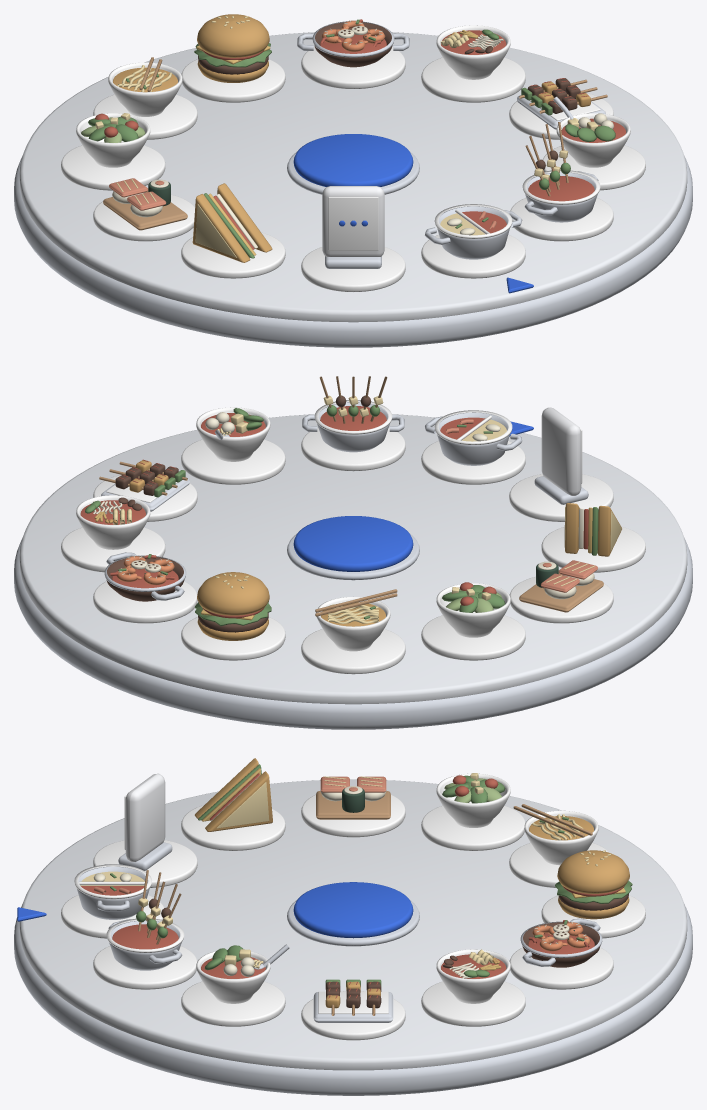
File: decision-scene.glb
3 views of the same model, one above another, from view 1: azimuth 30°, elevation 25°; view 2: azimuth 150°, elevation 25°; view 3: azimuth 270°, elevation 25° (orthographic).
Parts seen in each view (by area): view 1: RotatingDeck, BaseBody, ActionCap, Model_Burger_Bun_Slot06, ChoicePad_04, ChoicePad_08, ChoicePad_11, Model_Default_Surface_Slot11, ChoicePad_05, ChoicePad_00, ChoicePad_10, ChoicePad_06 (+34 smaller); view 2: RotatingDeck, BaseBody, ActionCap, Model_Burger_Bun_Slot06, ChoicePad_08, ChoicePad_02, ChoicePad_07, Model_Default_Card_Slot11, ChoicePad_05, ChoicePad_01, ChoicePad_00, ChoicePad_06 (+29 smaller); view 3: RotatingDeck, BaseBody, ActionCap, Model_Burger_Bun_Slot06, ChoicePad_02, ChoicePad_04, ChoicePad_08, Model_Default_Card_Slot11, ChoicePad_05, ChoicePad_01, ChoicePad_10, ChoicePad_09 (+34 smaller).
Boxes of the visible parts, x1,y1,x2,y2 form: RotatingDeck: (19, 32, 687, 322); BaseBody: (14, 157, 692, 347); ActionCap: (293, 134, 413, 186); Model_Burger_Bun_Slot06: (197, 14, 269, 82); ChoicePad_04: (421, 57, 525, 102); ChoicePad_08: (61, 145, 165, 190); ChoicePad_11: (301, 247, 405, 291); Model_Default_Surface_Slot11: (328, 196, 378, 250); ChoicePad_05: (301, 47, 405, 88); ChoicePad_00: (421, 234, 525, 278); ChoicePad_10: (181, 232, 285, 278); ChoicePad_06: (181, 59, 285, 102); RotatingDeck: (19, 414, 687, 704); BaseBody: (14, 539, 692, 729); ActionCap: (293, 516, 413, 571); Model_Burger_Bun_Slot06: (197, 572, 269, 640); ChoicePad_08: (421, 615, 525, 660); ChoicePad_02: (181, 439, 285, 484); ChoicePad_07: (301, 629, 405, 674); Model_Default_Card_Slot11: (541, 407, 581, 495); ChoicePad_05: (93, 581, 197, 623); ChoicePad_01: (301, 427, 405, 471); ChoicePad_00: (421, 441, 525, 484); ChoicePad_06: (181, 617, 285, 660); RotatingDeck: (19, 779, 687, 1070); BaseBody: (14, 906, 692, 1095); ActionCap: (293, 882, 413, 938); Model_Burger_Bun_Slot06: (557, 850, 629, 919); ChoicePad_02: (181, 981, 285, 1026); ChoicePad_04: (421, 981, 525, 1026); ChoicePad_08: (421, 805, 525, 850); Model_Default_Card_Slot11: (125, 773, 165, 861); ChoicePad_05: (509, 947, 613, 989); ChoicePad_01: (93, 946, 197, 989); ChoicePad_10: (181, 805, 285, 850); ChoicePad_09: (301, 794, 405, 837).
Bounding box in the file's own units: 4.24 × 0.9063 × 4.24.
